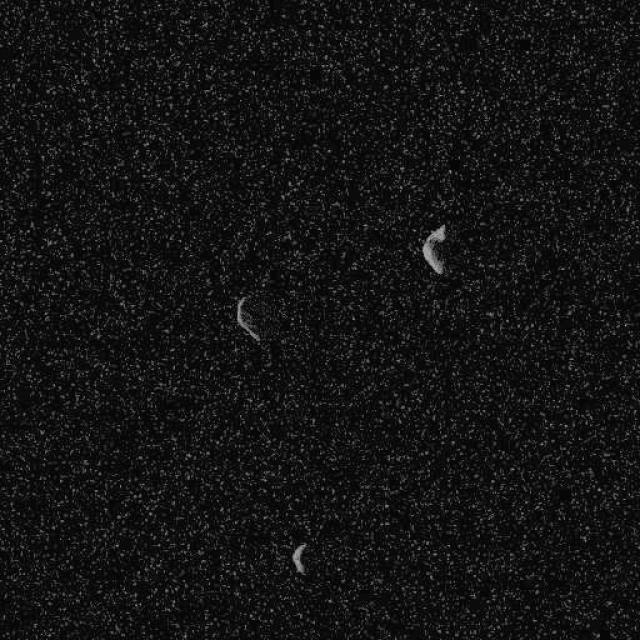D2: (420, 223, 448, 275), (235, 294, 263, 342), (290, 541, 308, 575)
